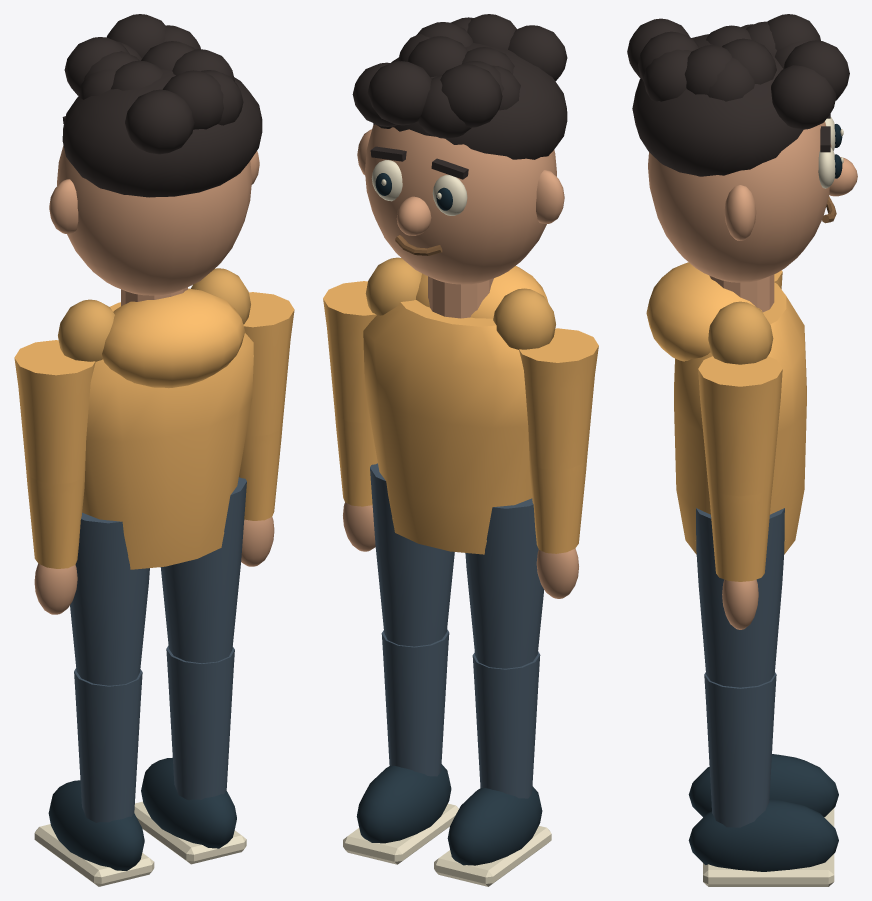
File: pixel.glb
The picture shows the model from 3 angles, left to right: view 1: azimuth 30°, elevation 25°; view 2: azimuth 150°, elevation 25°; view 3: azimuth 270°, elevation 25°; orthographic projection. The views are drawn at different scales.
Parts seen in each view (by area): view 1: Release3D_pixel_Hoodie, Release3D_pixel_Face, Release3D_pixel_HairCap, Release3D_pixel_Hood, Release3D_pixel_LeftTrouser, Release3D_pixel_LeftSleeve, Release3D_pixel_RightTrouser, Release3D_pixel_LeftCalf, Release3D_pixel_RightCalf, Release3D_pixel_RightSleeve, Release3D_pixel_LeftShoe, Release3D_pixel_RightShoe (+19 smaller); view 2: Release3D_pixel_Hoodie, Release3D_pixel_Face, Release3D_pixel_LeftTrouser, Release3D_pixel_LeftSleeve, Release3D_pixel_RightTrouser, Release3D_pixel_LeftCalf, Release3D_pixel_RightCalf, Release3D_pixel_HairCap, Release3D_pixel_LeftShoe, Release3D_pixel_RightShoe, Release3D_pixel_RightSleeve, Release3D_pixel_LeftLowerSleeve (+23 smaller); view 3: Release3D_pixel_Face, Release3D_pixel_Hoodie, Release3D_pixel_HairCap, Release3D_pixel_RightSleeve, Release3D_pixel_RightTrouser, Release3D_pixel_RightCalf, Release3D_pixel_RightShoe, Release3D_pixel_Hood, Release3D_pixel_RightLowerSleeve, Release3D_pixel_LeftShoe, Release3D_pixel_Headphone1, Release3D_pixel_Curl3 (+16 smaller).
Boxes of the visible parts, x1=… form: Release3D_pixel_Hoodie: x1=82, y1=302, x2=253, y2=569; Release3D_pixel_Face: x1=57, y1=145, x2=251, y2=295; Release3D_pixel_HairCap: x1=62, y1=69, x2=262, y2=197; Release3D_pixel_Hood: x1=102, y1=288, x2=245, y2=388; Release3D_pixel_LeftTrouser: x1=70, y1=512, x2=149, y2=685; Release3D_pixel_LeftSleeve: x1=14, y1=340, x2=95, y2=484; Release3D_pixel_RightTrouser: x1=160, y1=477, x2=246, y2=663; Release3D_pixel_LeftCalf: x1=74, y1=668, x2=142, y2=822; Release3D_pixel_RightCalf: x1=166, y1=645, x2=234, y2=800; Release3D_pixel_RightSleeve: x1=243, y1=292, x2=294, y2=436; Release3D_pixel_LeftShoe: x1=48, y1=780, x2=144, y2=870; Release3D_pixel_RightShoe: x1=141, y1=758, x2=236, y2=848; Release3D_pixel_Hoodie: x1=363, y1=299, x2=531, y2=554; Release3D_pixel_Face: x1=365, y1=124, x2=556, y2=284; Release3D_pixel_LeftTrouser: x1=465, y1=498, x2=544, y2=668; Release3D_pixel_LeftSleeve: x1=519, y1=328, x2=598, y2=470; Release3D_pixel_RightTrouser: x1=370, y1=463, x2=454, y2=646; Release3D_pixel_LeftCalf: x1=472, y1=651, x2=540, y2=798; Release3D_pixel_RightCalf: x1=381, y1=629, x2=449, y2=776; Release3D_pixel_HairCap: x1=373, y1=43, x2=567, y2=159; Release3D_pixel_LeftShoe: x1=447, y1=786, x2=542, y2=865; Release3D_pixel_RightShoe: x1=356, y1=764, x2=451, y2=843; Release3D_pixel_RightSleeve: x1=323, y1=281, x2=376, y2=422; Release3D_pixel_LeftLowerSleeve: x1=529, y1=457, x2=587, y2=553; Release3D_pixel_Face: x1=648, y1=121, x2=831, y2=282; Release3D_pixel_Hoodie: x1=674, y1=282, x2=806, y2=553; Release3D_pixel_HairCap: x1=632, y1=34, x2=803, y2=176; Release3D_pixel_RightSleeve: x1=698, y1=356, x2=782, y2=496; Release3D_pixel_RightTrouser: x1=696, y1=508, x2=784, y2=687; Release3D_pixel_RightCalf: x1=704, y1=672, x2=776, y2=827; Release3D_pixel_RightShoe: x1=688, y1=799, x2=838, y2=871; Release3D_pixel_Hood: x1=646, y1=262, x2=762, y2=361; Release3D_pixel_RightLowerSleeve: x1=708, y1=484, x2=772, y2=581; Release3D_pixel_LeftShoe: x1=688, y1=754, x2=838, y2=817; Release3D_pixel_Headphone1: x1=708, y1=301, x2=773, y2=364; Release3D_pixel_Curl3: x1=771, y1=65, x2=836, y2=129.
Size of the model in its own units: 0.67 by 1.93 by 0.4912.
